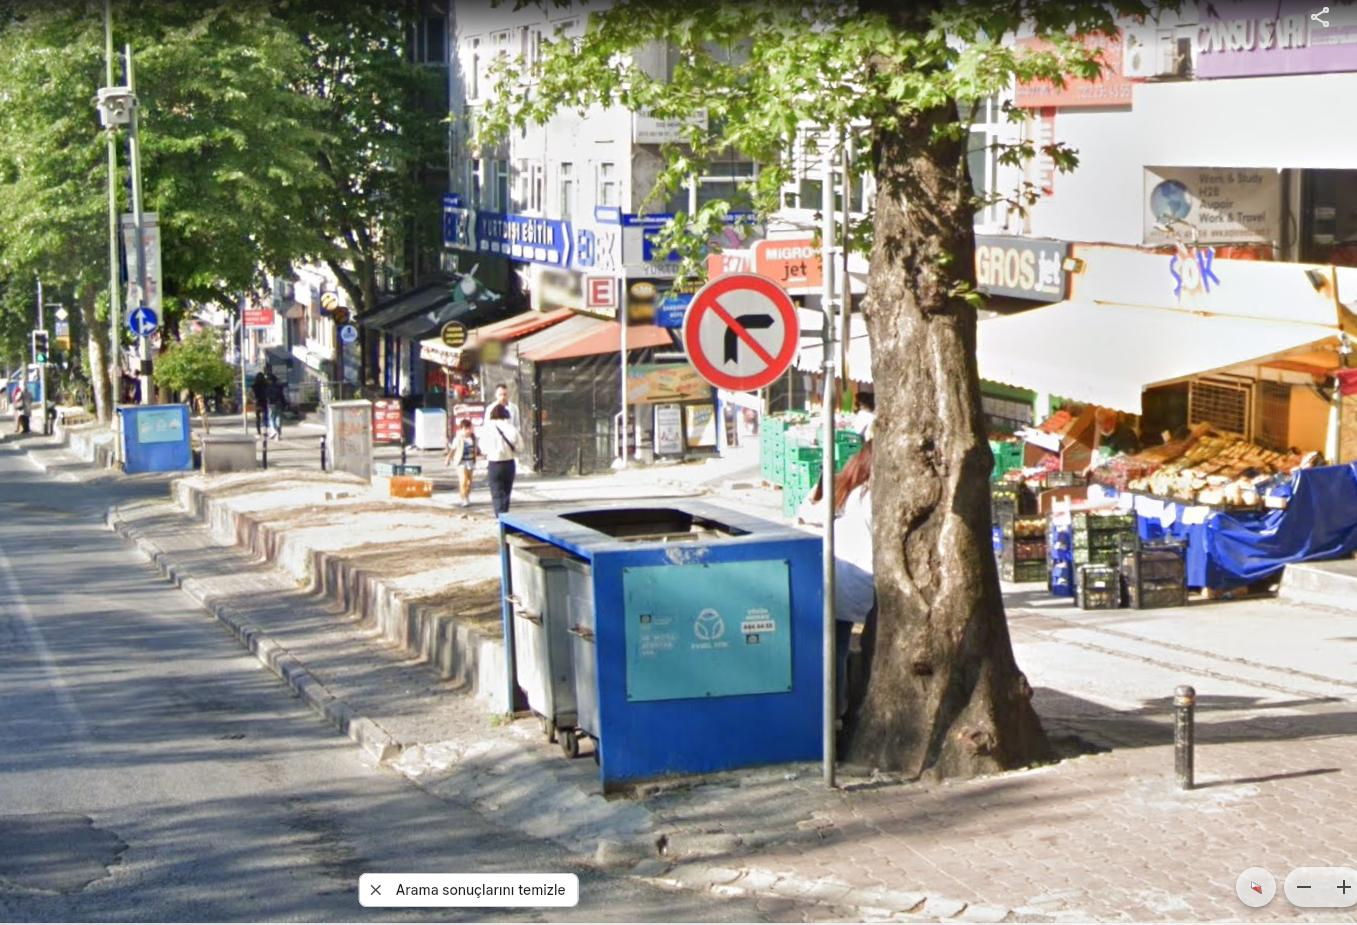rightturnsareforbidden: (691, 280, 794, 385)
